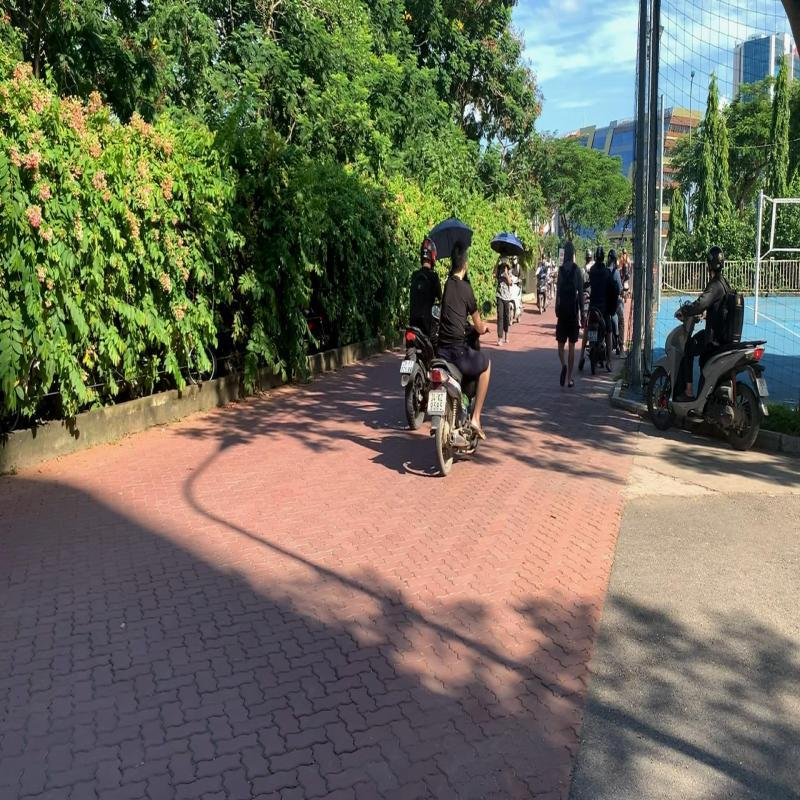nohelmet: (449, 237, 470, 280)
